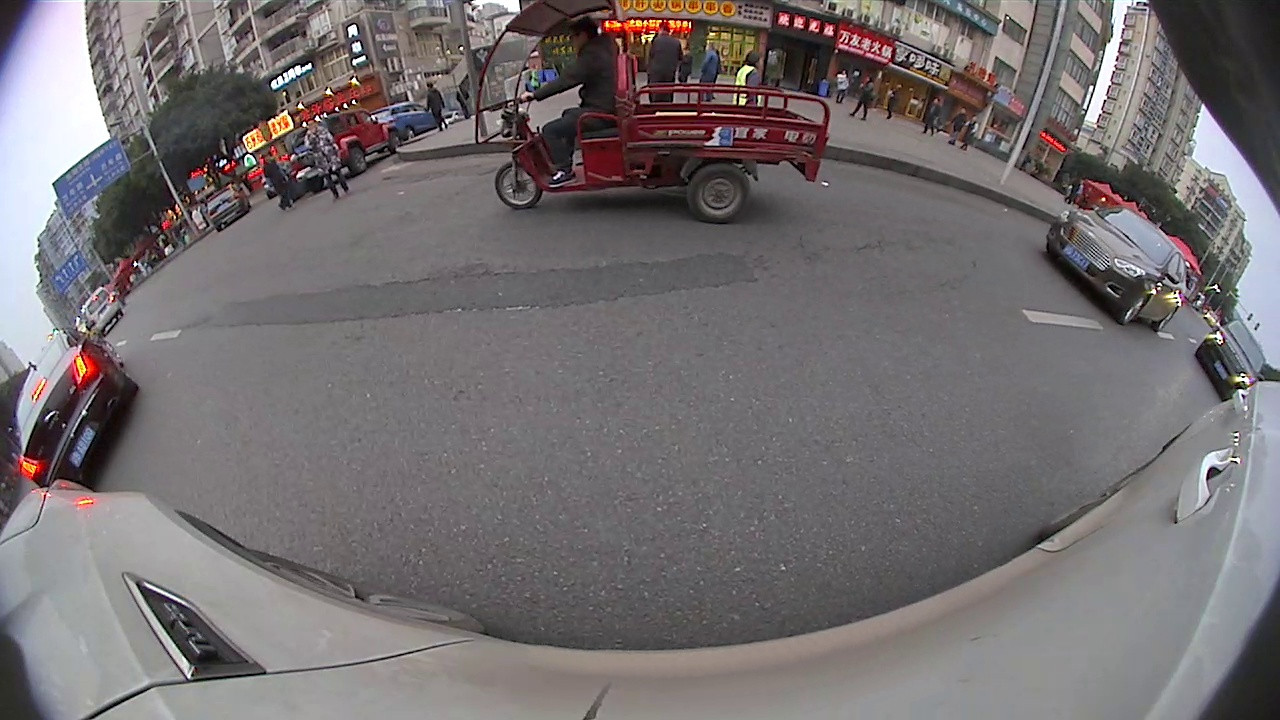car: (12, 327, 137, 492), (1042, 202, 1194, 331), (284, 104, 402, 183), (1194, 317, 1269, 399), (367, 101, 445, 142), (77, 280, 128, 334), (202, 183, 254, 235)
front: (492, 158, 545, 212)
person: (302, 115, 348, 201)
rear: (683, 160, 754, 228)
rider: (471, 1, 835, 225)
